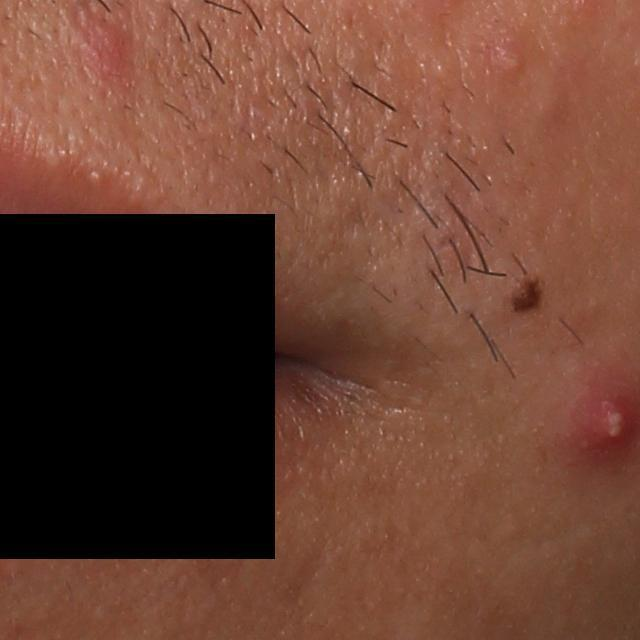nevus: (510, 276, 542, 321)
papule: (82, 24, 131, 76), (495, 47, 529, 78)
